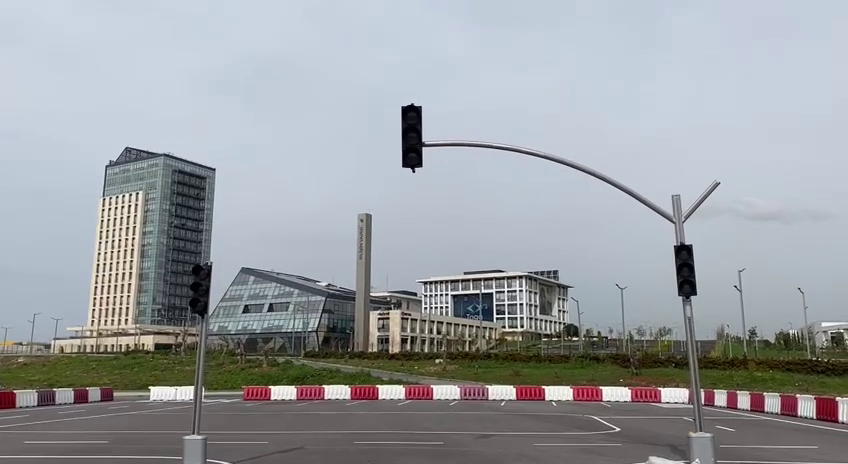trafficLight: (395, 99, 427, 175), (671, 238, 699, 301), (187, 257, 213, 319)
